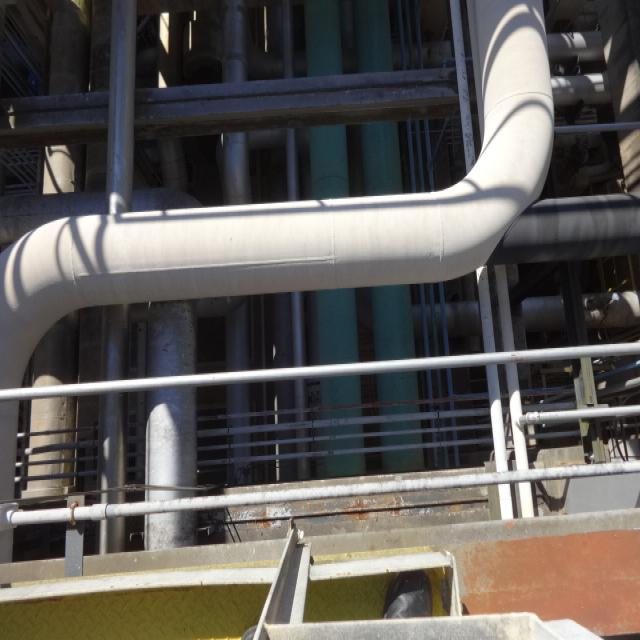gas: (5, 185, 507, 294), (0, 70, 618, 140), (1, 70, 453, 110), (471, 1, 558, 200), (143, 304, 199, 550), (306, 293, 369, 479), (371, 290, 432, 474), (354, 1, 407, 195), (3, 495, 233, 533), (303, 5, 348, 196), (445, 452, 640, 489), (97, 310, 126, 548), (235, 474, 445, 502), (109, 0, 137, 210), (516, 401, 640, 431)
